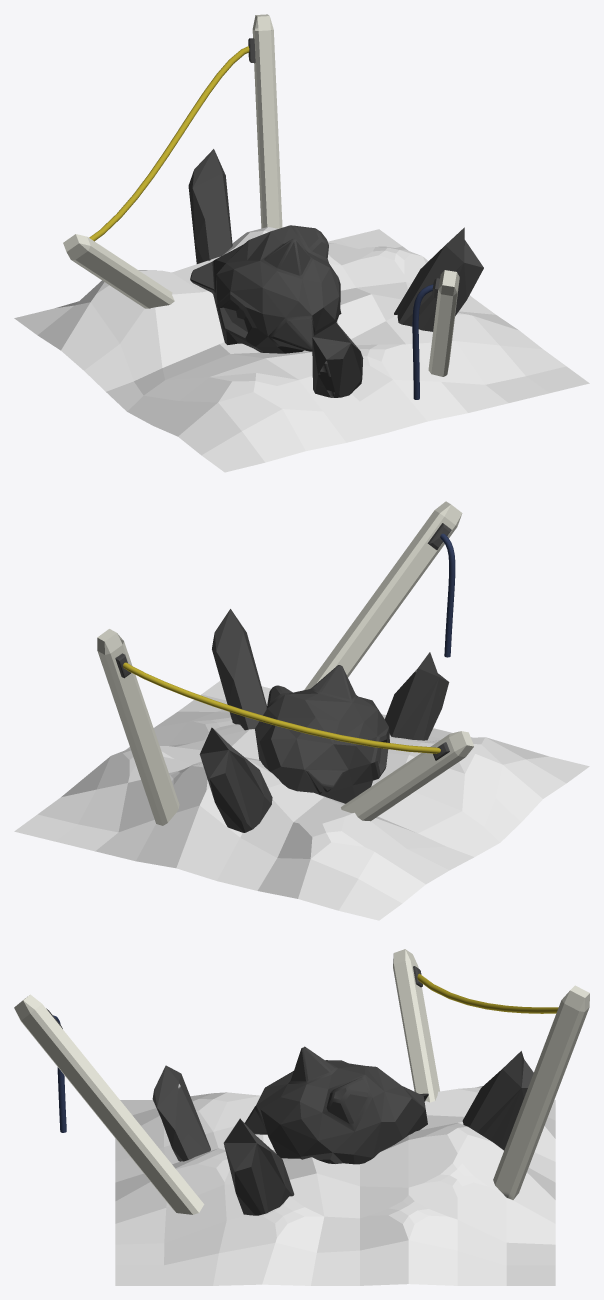
The model's file is MeteoritoSuelo.fbx.
3 renders of one model, top to bottom at view 1: azimuth 30°, elevation 25°; view 2: azimuth 150°, elevation 25°; view 3: azimuth 270°, elevation 25°, orthographic. The views are drawn at different scales.
Visible parts, largest first — view 1: Plane, Rock04.003, Sphere.001, Sphere.003, Rock04.004, Rock04.002, Rock04.001, Rock04.005, Sphere.002; view 2: Plane, Rock04.003, Sphere.001, Rock04.001, Rock04.004, Rock04.002, Rock04.005, Sphere.003, Sphere.002; view 3: Plane, Rock04.003, Sphere.001, Rock04.001, Rock04.002, Rock04.004, Rock04.005, Sphere.003, Sphere.002.
Boxes of the visible parts, left/top/right/bottom form: Plane: left=14, top=227, right=589, bottom=472; Rock04.003: left=63, top=14, right=282, bottom=308; Sphere.001: left=213, top=225, right=341, bottom=353; Sphere.003: left=190, top=226, right=328, bottom=351; Rock04.004: left=188, top=149, right=232, bottom=263; Rock04.002: left=394, top=227, right=483, bottom=331; Rock04.001: left=412, top=270, right=459, bottom=399; Rock04.005: left=312, top=322, right=363, bottom=397; Sphere.002: left=211, top=225, right=328, bottom=352; Plane: left=14, top=680, right=589, bottom=920; Rock04.003: left=97, top=629, right=473, bottom=825; Sphere.001: left=255, top=689, right=389, bottom=803; Rock04.001: left=304, top=501, right=462, bottom=690; Rock04.004: left=199, top=727, right=272, bottom=832; Rock04.002: left=212, top=609, right=266, bottom=730; Rock04.005: left=385, top=652, right=449, bottom=740; Sphere.003: left=266, top=665, right=388, bottom=792; Sphere.002: left=267, top=687, right=387, bottom=794; Plane: left=115, top=1086, right=555, bottom=1285; Rock04.003: left=393, top=949, right=589, bottom=1199; Sphere.001: left=256, top=1060, right=427, bottom=1164; Rock04.001: left=14, top=994, right=204, bottom=1214; Rock04.002: left=223, top=1118, right=294, bottom=1215; Rock04.004: left=462, top=1051, right=533, bottom=1150; Rock04.005: left=152, top=1065, right=210, bottom=1161; Sphere.003: left=244, top=1046, right=428, bottom=1134; Sphere.002: left=255, top=1060, right=423, bottom=1163.
Size of the model in its own units: 423 by 290 by 523.
